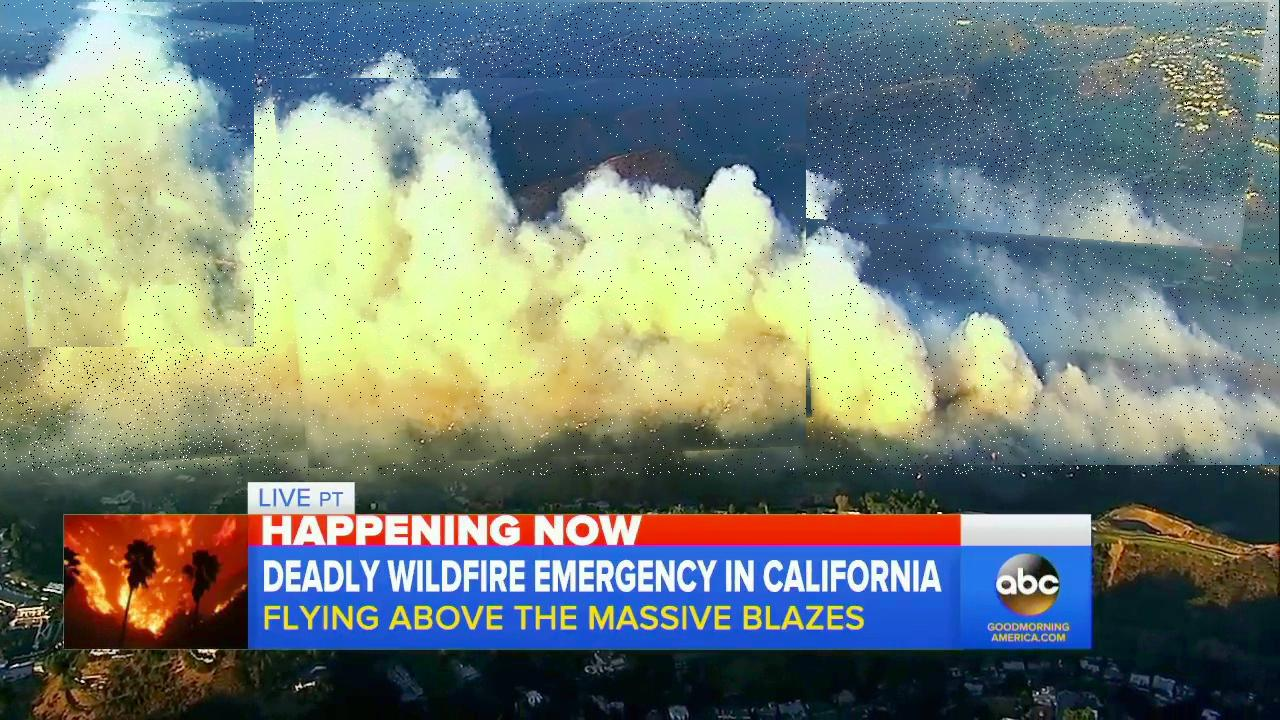smoke: (0, 2, 1278, 475), (271, 78, 806, 468), (803, 218, 1280, 465), (0, 0, 254, 347)
